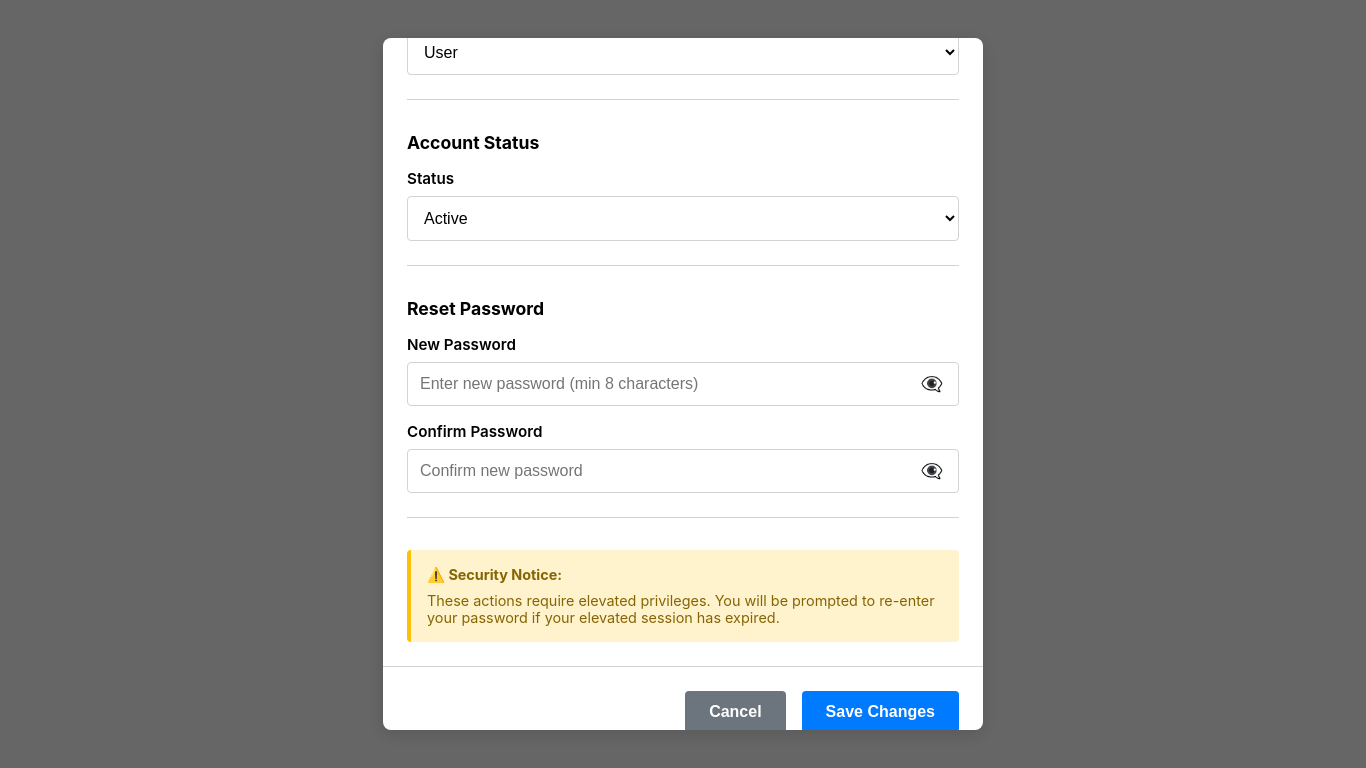
Scenario: UserEditModal › should validate password match
The width and height of the screenshot is (1366, 768).
(page scrolled)
Type "password123" into the password field labelled "New Password" at (683, 384), box [407,362,959,406]
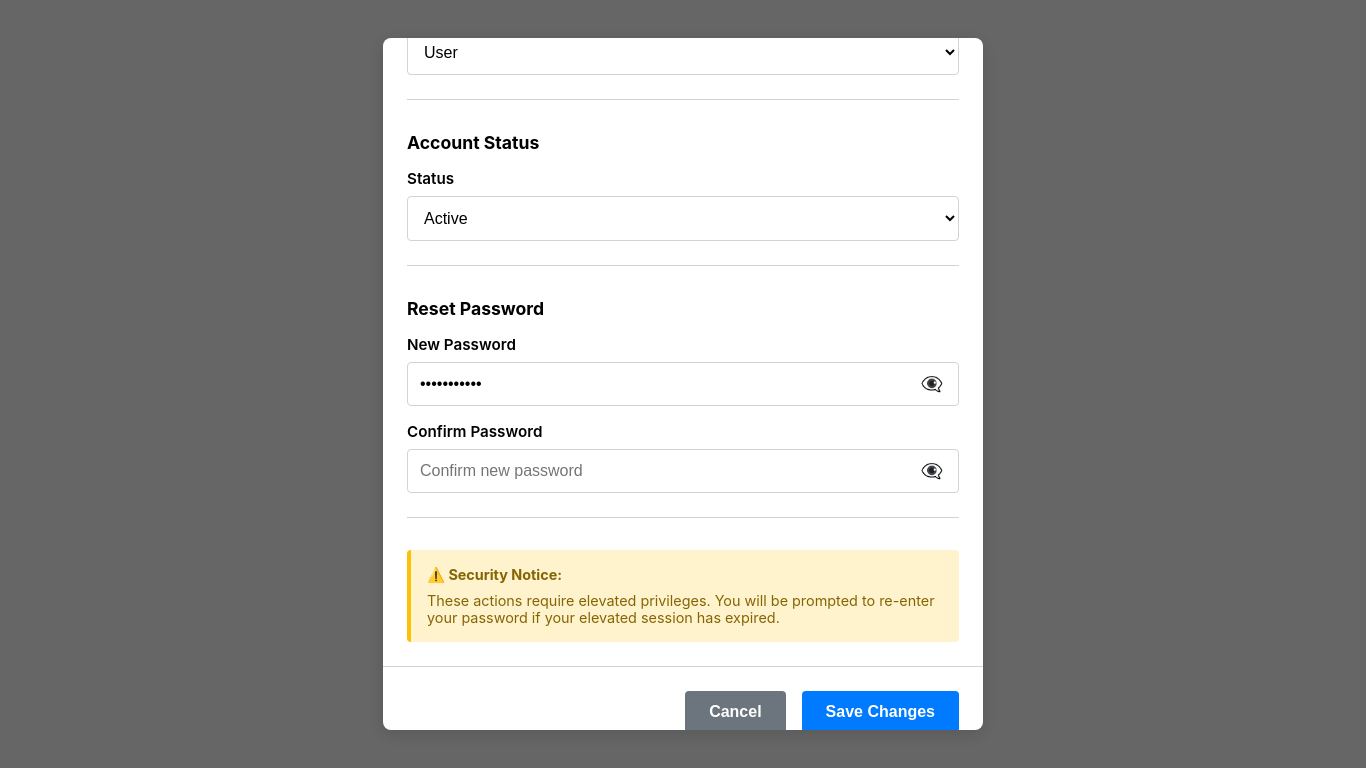
Type "different123" into the password field labelled "Confirm Password" at (683, 471), box [407,449,959,493]
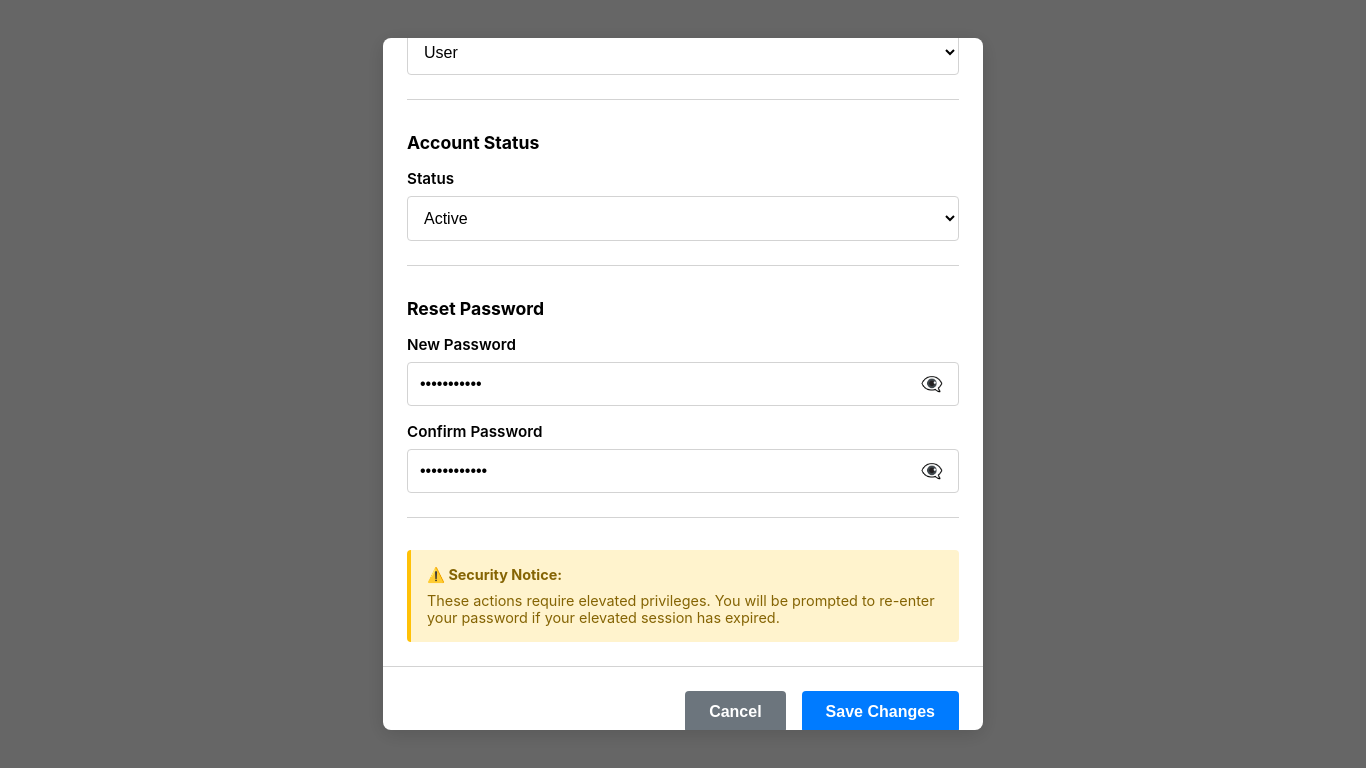
Click the button "Save Changes" at (880, 712), box [802,691,959,733]
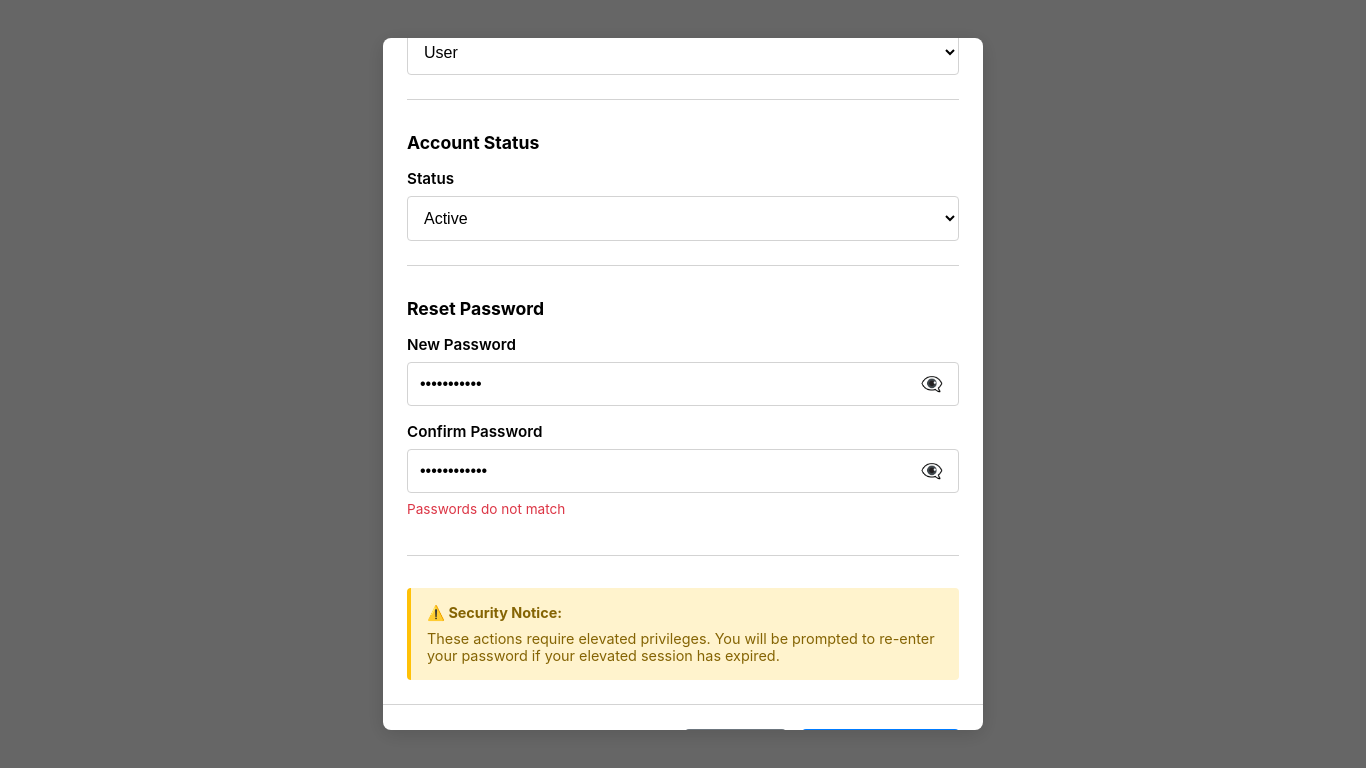
Result: the text "Passwords do not match" is shown at [407,501,565,517]
